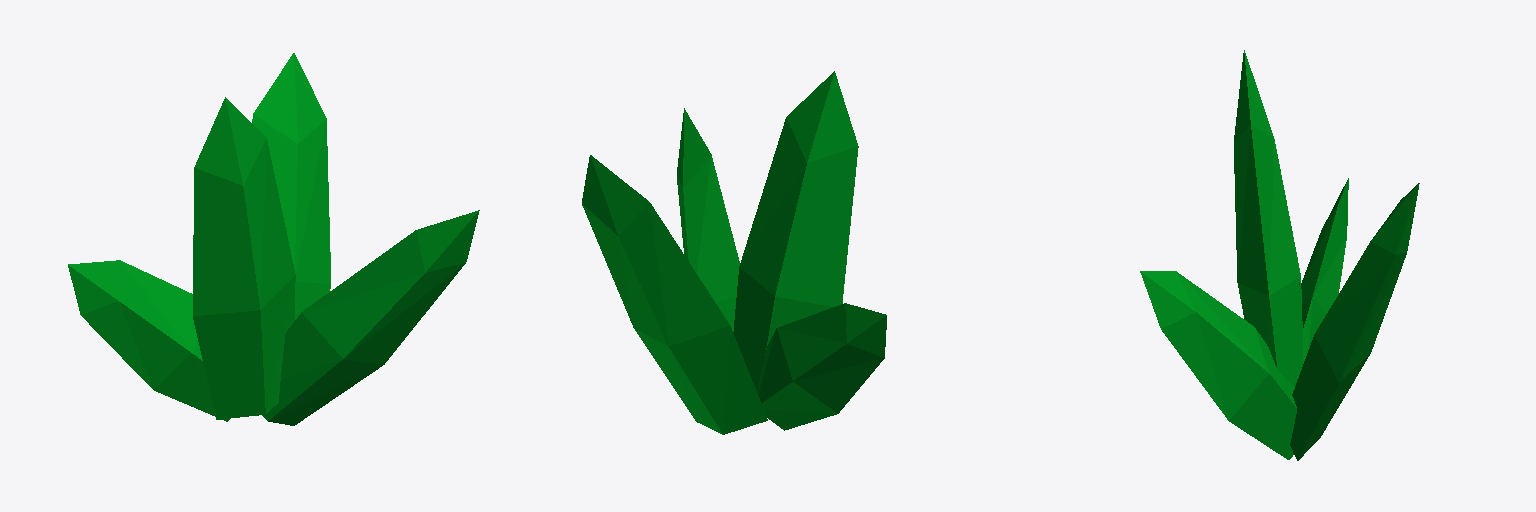
Rendered from Grass.obj.
3 renders of one model, left to right at view 1: azimuth 30°, elevation 25°; view 2: azimuth 150°, elevation 25°; view 3: azimuth 270°, elevation 25°, orthographic.
Parts seen in each view (by area): view 1: Mesh_polySurface1; view 2: Mesh_polySurface1; view 3: Mesh_polySurface1.
Part boxes in pixels (left/top/right/bottom): Mesh_polySurface1: left=68, top=53, right=479, bottom=425; Mesh_polySurface1: left=582, top=71, right=886, bottom=434; Mesh_polySurface1: left=1140, top=50, right=1419, bottom=460.
Size of the model in its own units: 93.46 by 107 by 73.58.